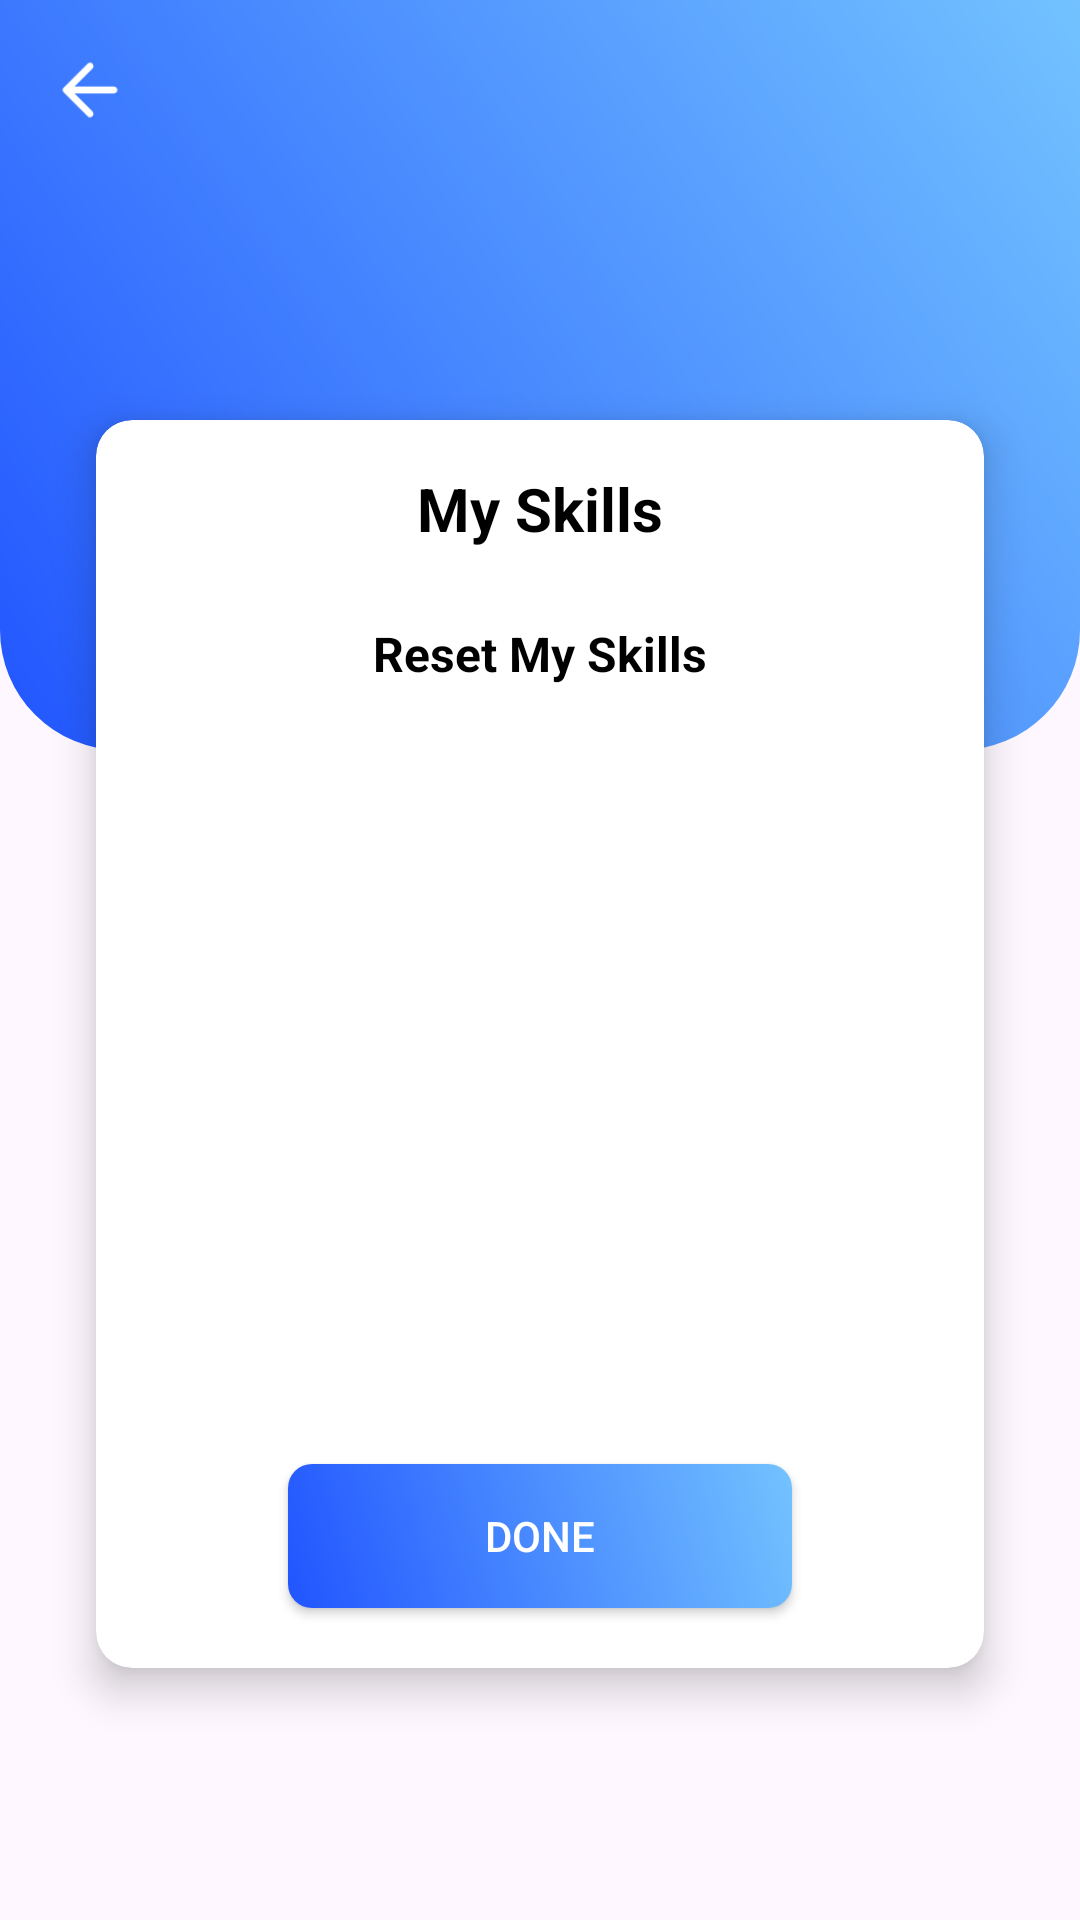

Named icons in this screenshot (1080w x 1920h) and their bounding boxes, (x1, y1, x2, y2):
back: (62, 62, 118, 118)
